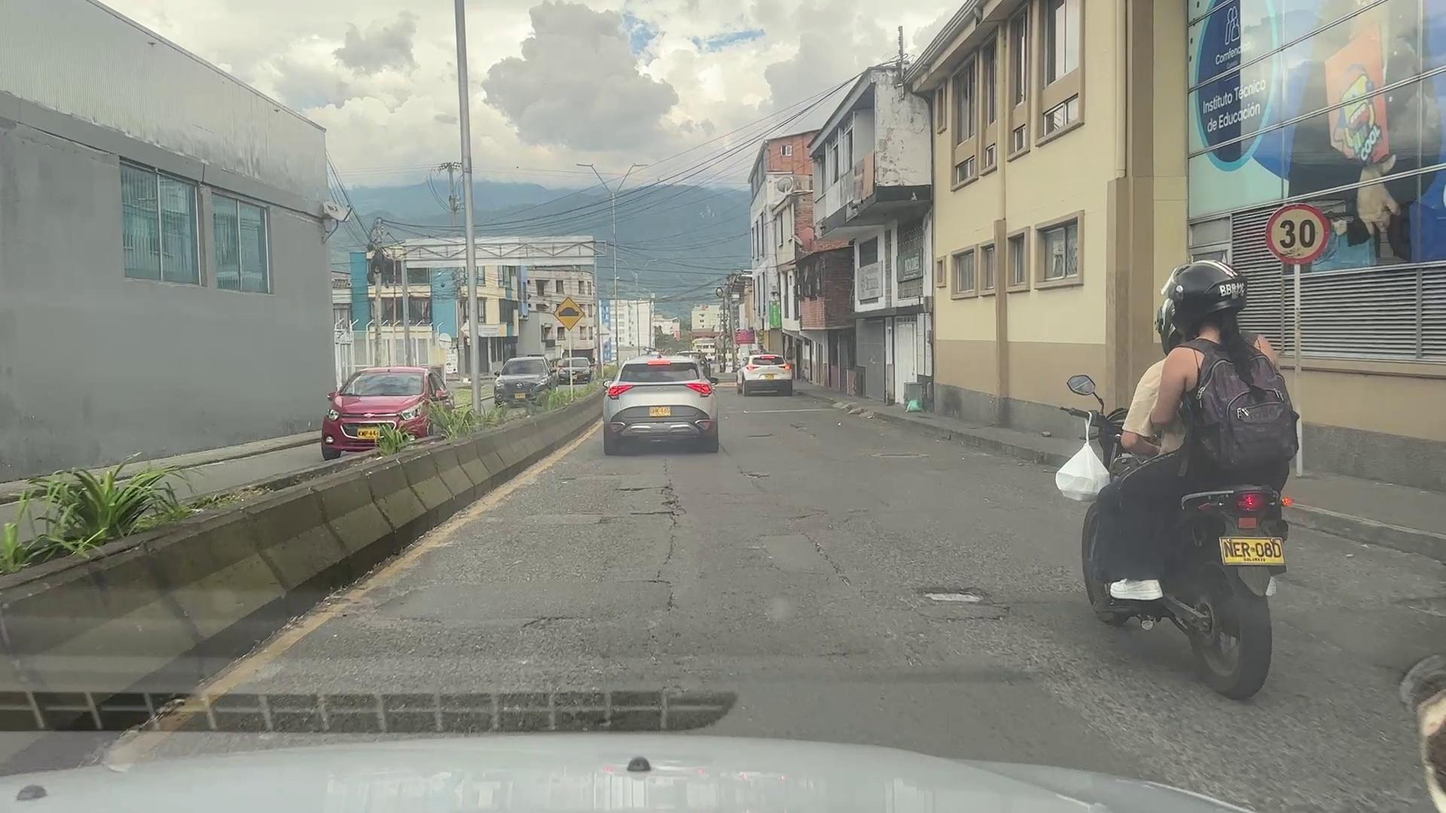bache: (922, 592, 984, 602), (747, 474, 769, 478)
grieta: (616, 484, 684, 515), (630, 571, 678, 611), (815, 543, 850, 588)
registro: (881, 454, 910, 457)
